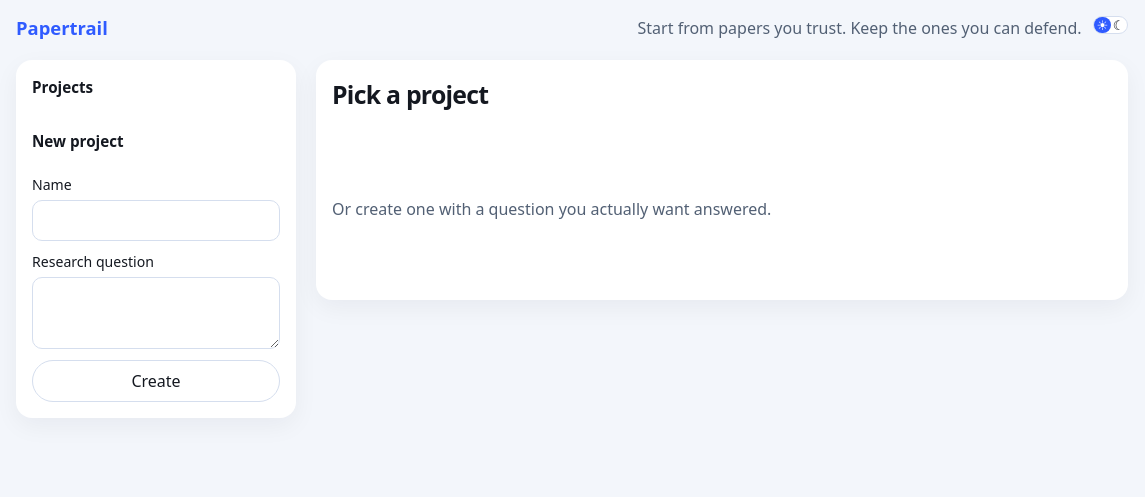
Test: project screen › shows the detail when creating a project is rejected
Type "New question" into the field labelled "Name" at x=156, y=221, box [32,200,280,241]
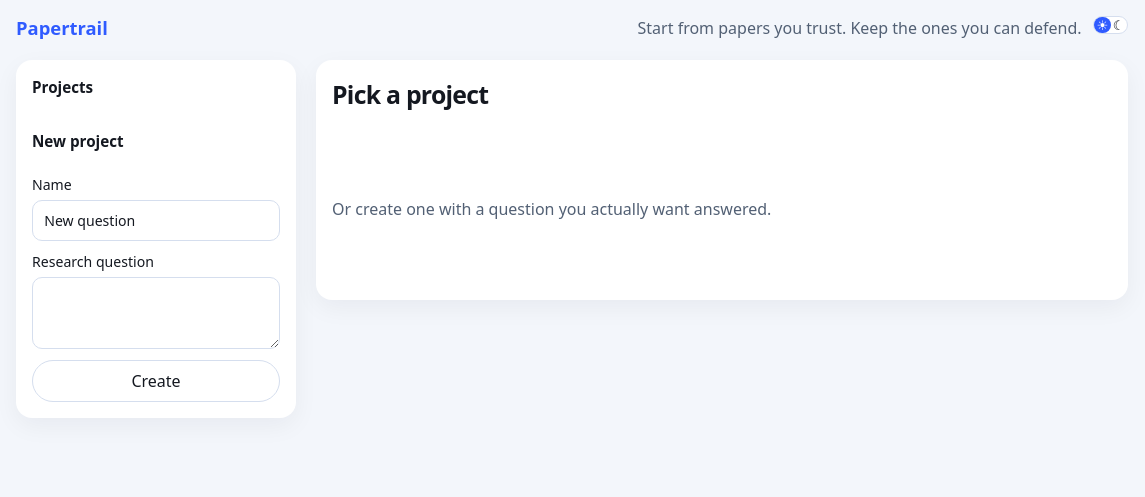
Type "Why?" into the text box labelled "Research question" at x=156, y=313, box [32,277,280,349]
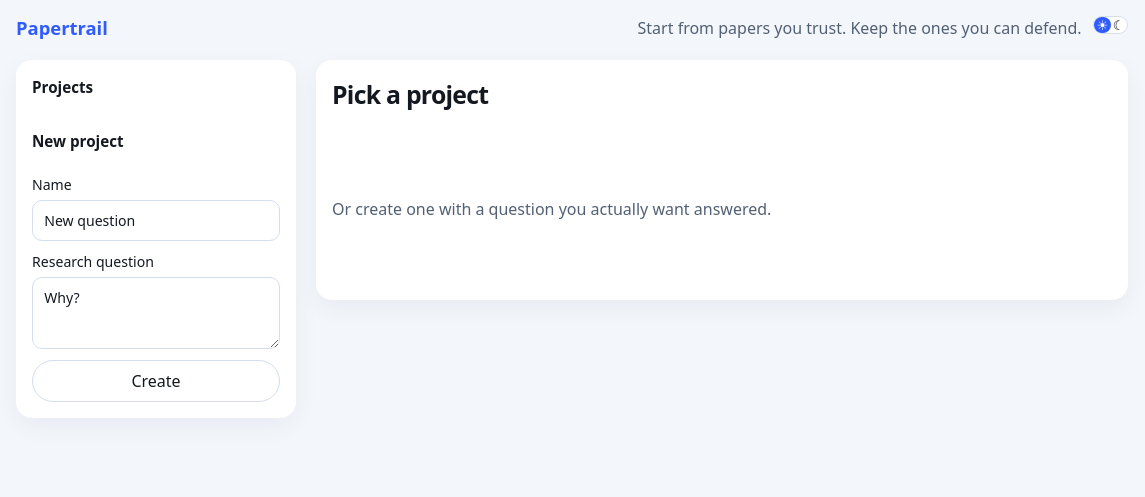
Click the button "Create" at x=156, y=381, box [32,360,280,402]
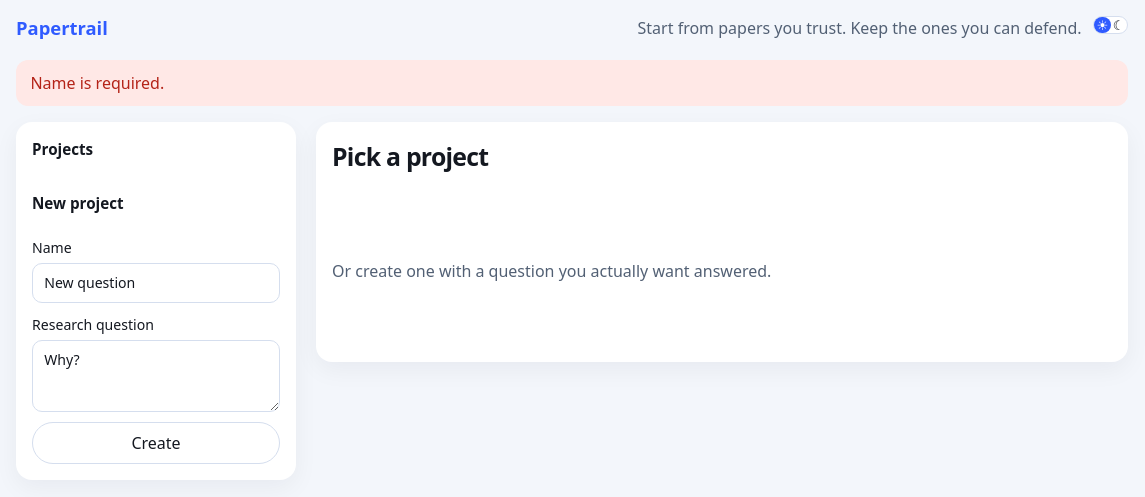
Expected: the text "Name is required." is shown, [16,60,1128,106]
